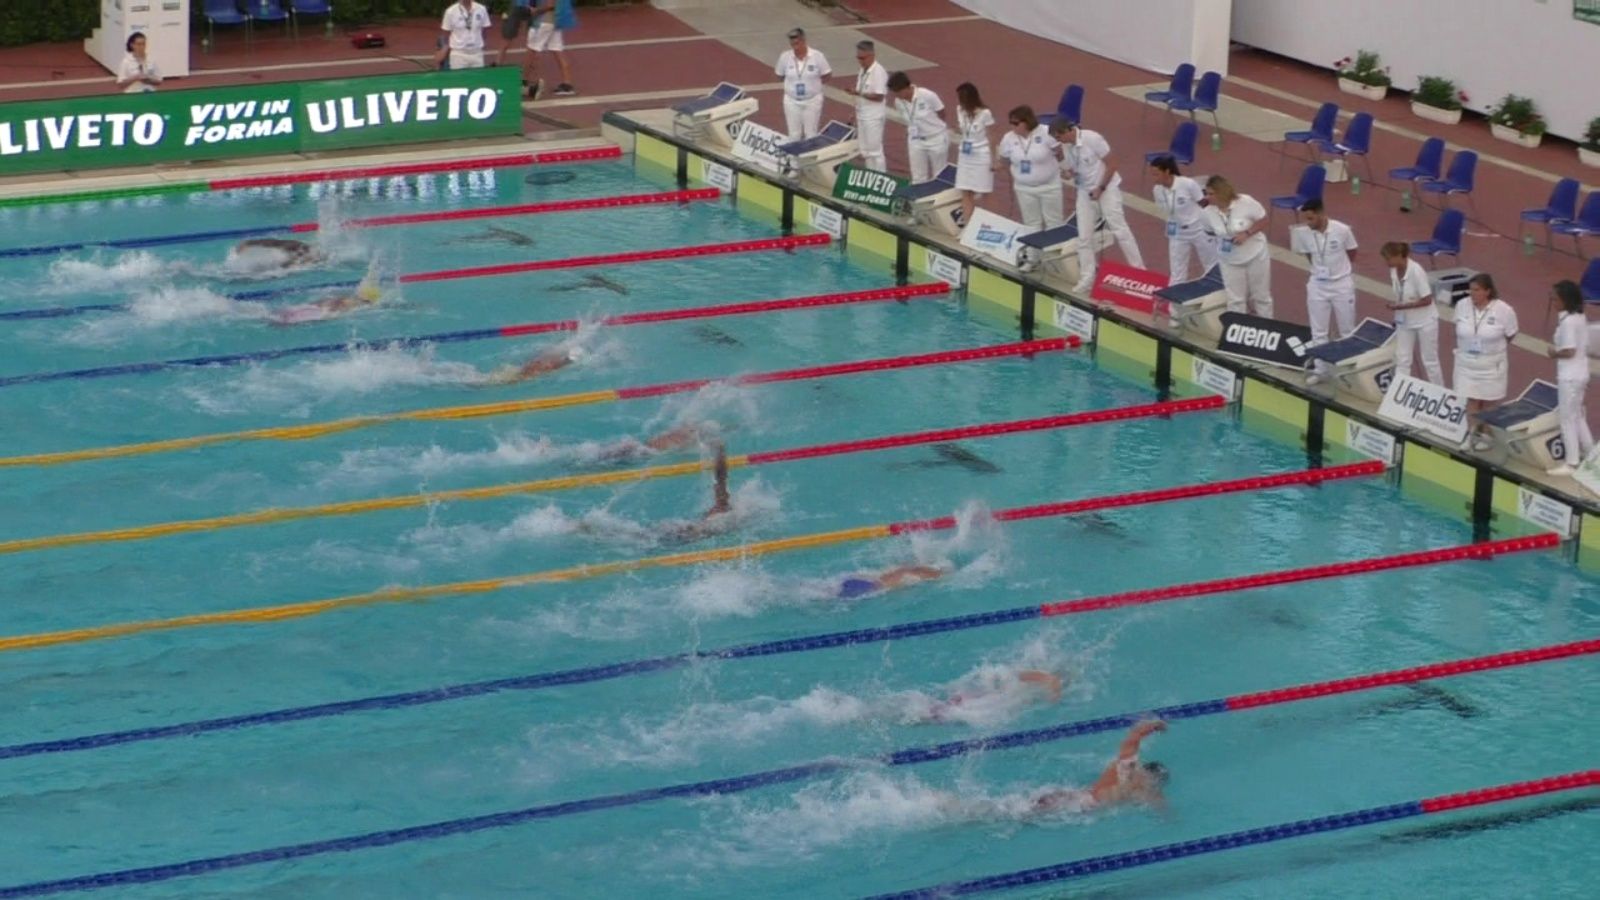swimmerwdd: (962, 715, 1173, 821), (581, 449, 763, 544), (891, 665, 1067, 729), (766, 557, 962, 604), (545, 419, 742, 463), (422, 344, 613, 385), (225, 288, 431, 320), (158, 237, 349, 267)
